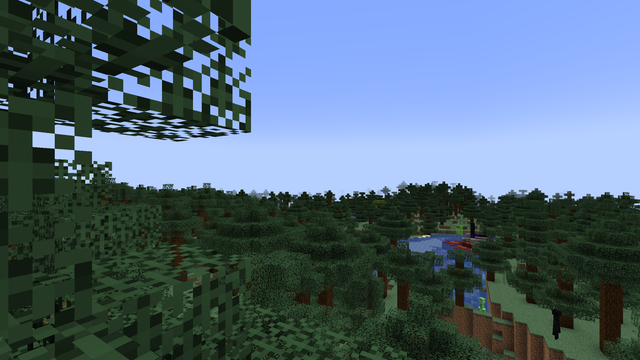creepers: (479, 296, 484, 312)
endermens: (551, 307, 560, 341)
